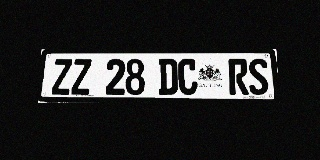2: (106, 59, 125, 95)
8: (125, 59, 145, 95)
C: (178, 59, 198, 95)
D: (158, 59, 178, 95)
R: (228, 59, 249, 95)
S: (248, 59, 269, 95)
Z: (71, 59, 92, 95), (52, 59, 72, 95)
